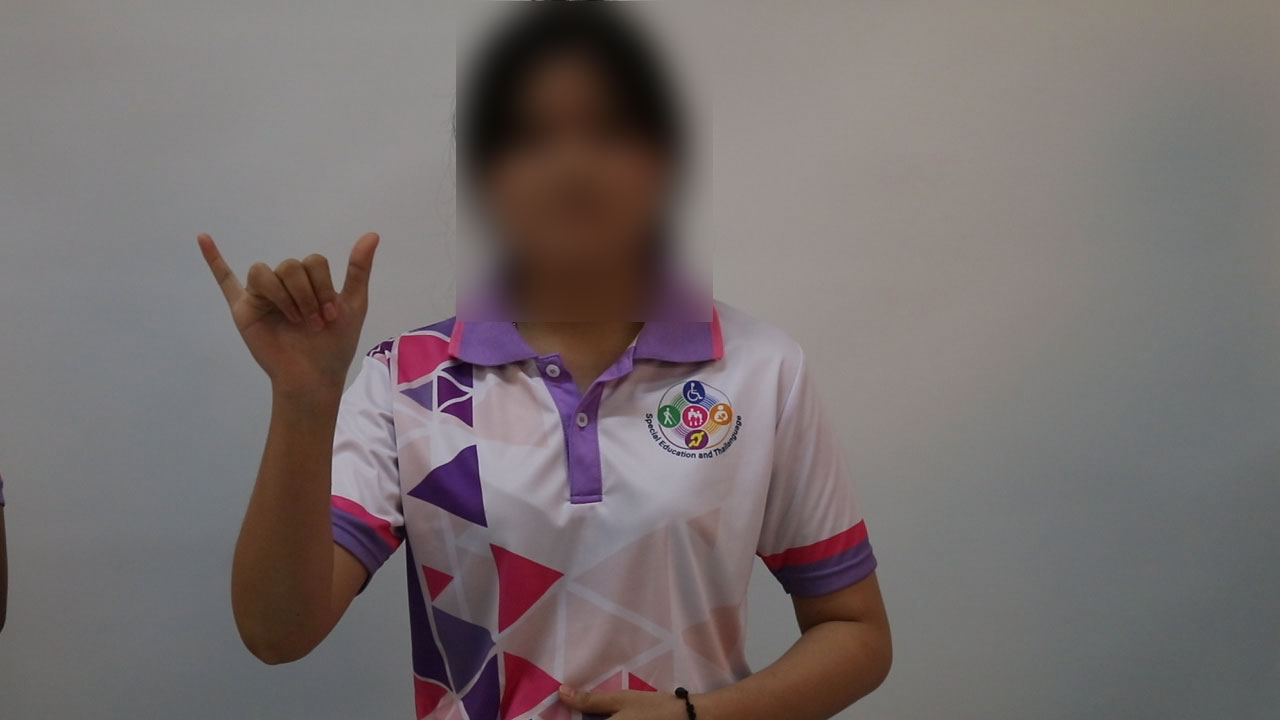yor: (176, 220, 418, 413)
